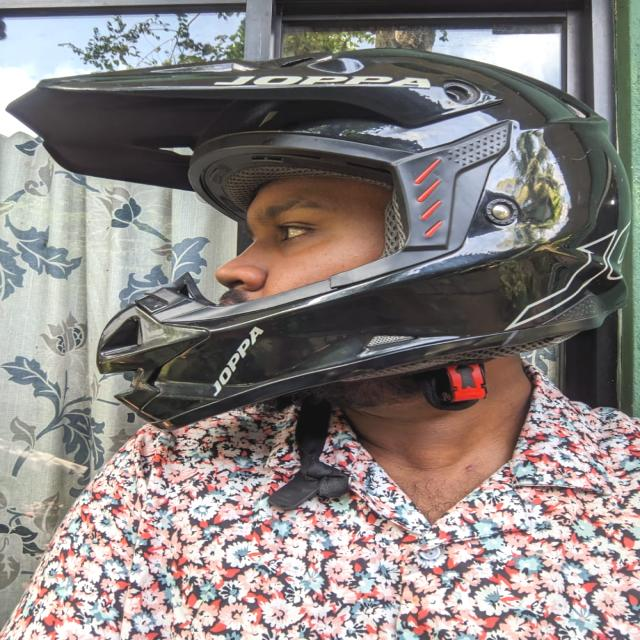With Helmet: (8, 49, 639, 429)
